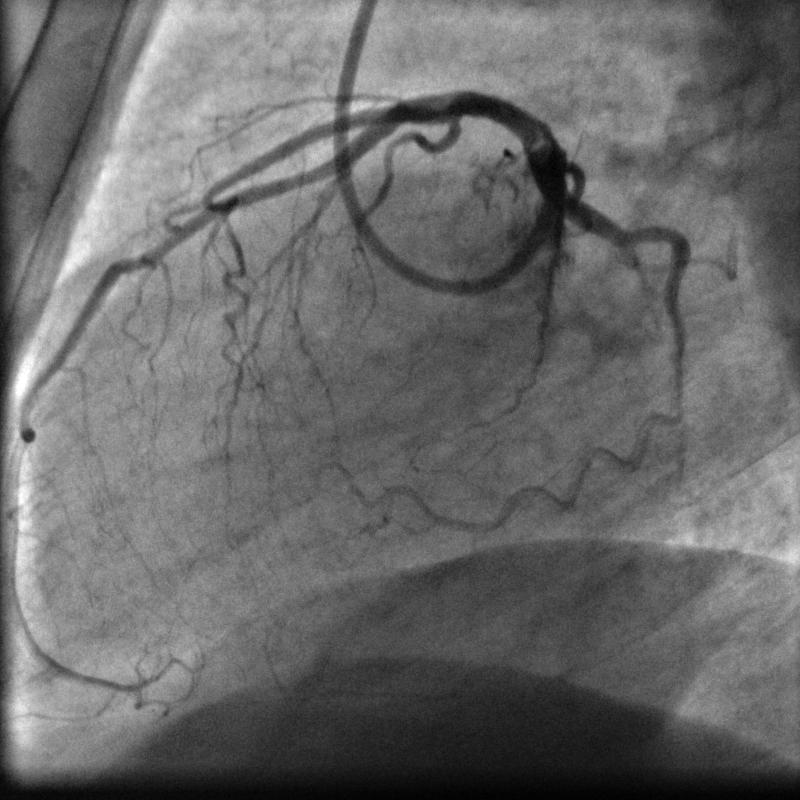Stenosis: (429, 90, 467, 134)
